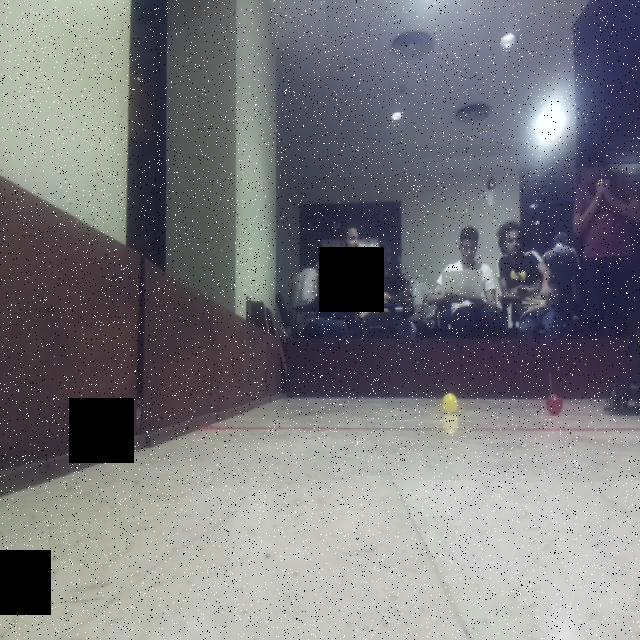ball: (436, 387, 464, 415), (543, 391, 567, 420)
